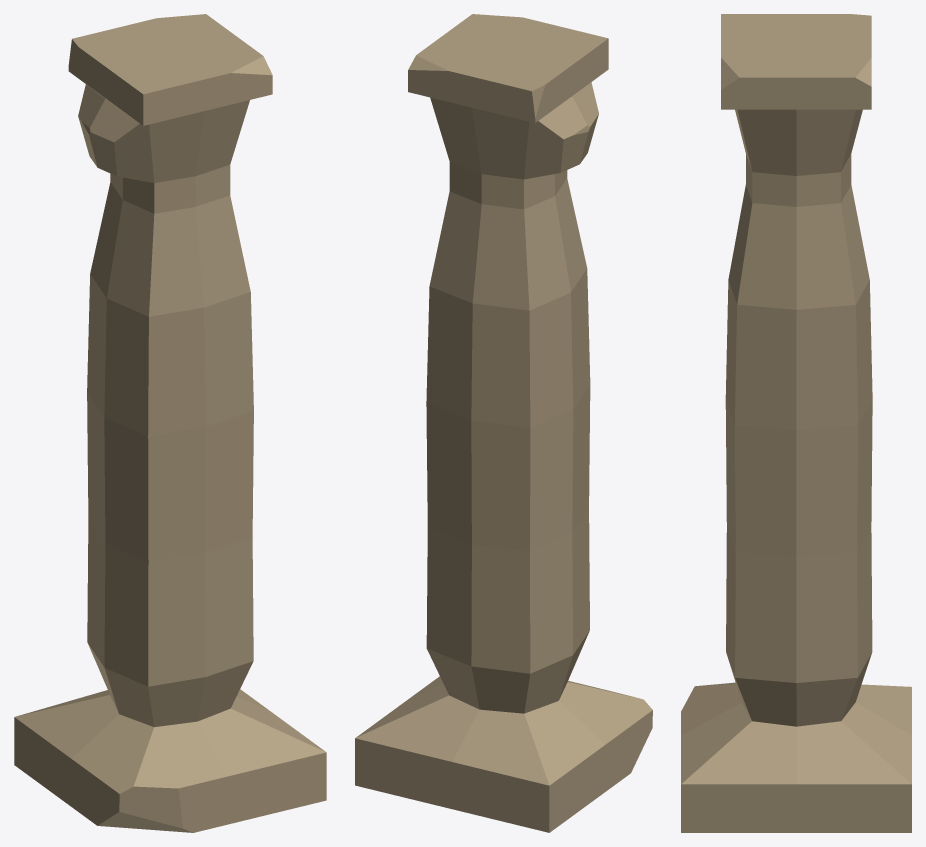
The model's file is stolb1.fbx.
3 views of the same model, side by side, from view 1: azimuth 30°, elevation 25°; view 2: azimuth 150°, elevation 25°; view 3: azimuth 270°, elevation 25° (orthographic). The views are drawn at different scales.
Parts seen in each view (by area): view 1: Circle.040; view 2: Circle.040; view 3: Circle.040.
Part boxes in pixels (x1,y1,x2,y2): Circle.040: [14, 14, 326, 832]; Circle.040: [355, 14, 652, 832]; Circle.040: [681, 14, 911, 832].
Bounding box in the file's own units: 176 × 621 × 176.
